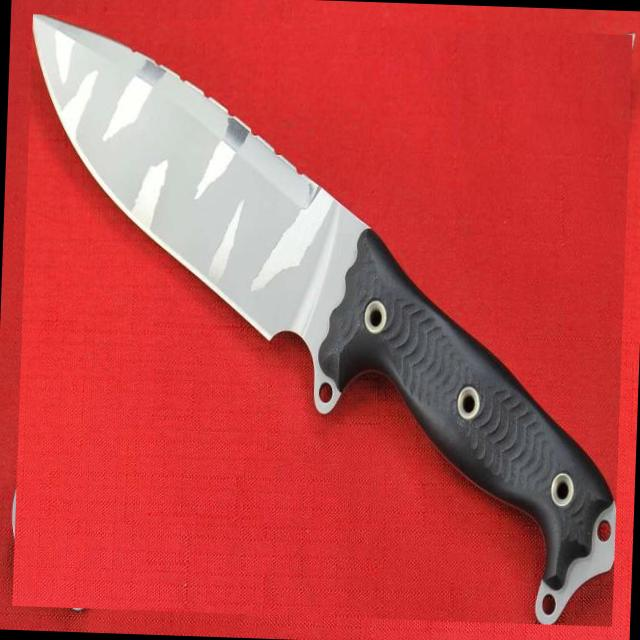Knife: (33, 15, 615, 624)
